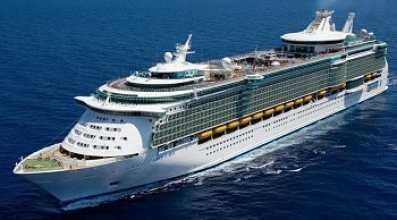youlun: (12, 10, 389, 203)
